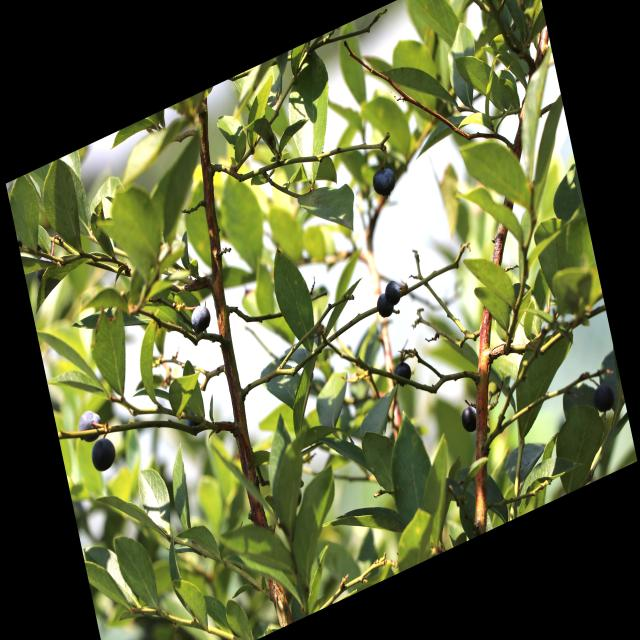blueberry: (186, 297, 216, 339), (90, 431, 118, 476), (74, 404, 104, 443), (372, 160, 398, 200), (391, 358, 414, 394), (374, 288, 396, 323), (458, 402, 479, 434)
